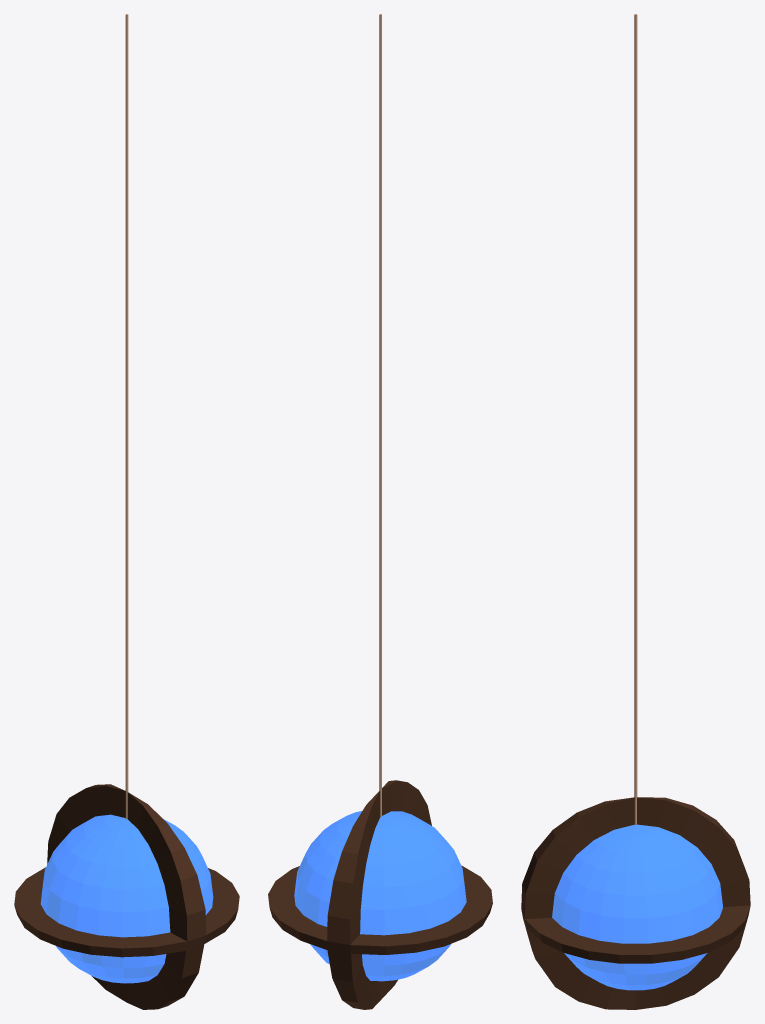
Rendered from Luce 2 Blu .fbx.
3 views of the same model, side by side, from view 1: azimuth 30°, elevation 25°; view 2: azimuth 150°, elevation 25°; view 3: azimuth 270°, elevation 25° (orthographic).
Parts seen in each view (by area): view 1: Sphere.015; view 2: Sphere.015; view 3: Sphere.015.
Part boxes in pixels (x1=…): Sphere.015: x1=14, y1=14, x2=239, y2=1009; Sphere.015: x1=268, y1=14, x2=492, y2=1009; Sphere.015: x1=521, y1=14, x2=750, y2=1009.
Size of the model in its own units: 49.96 by 243 by 50.75.
